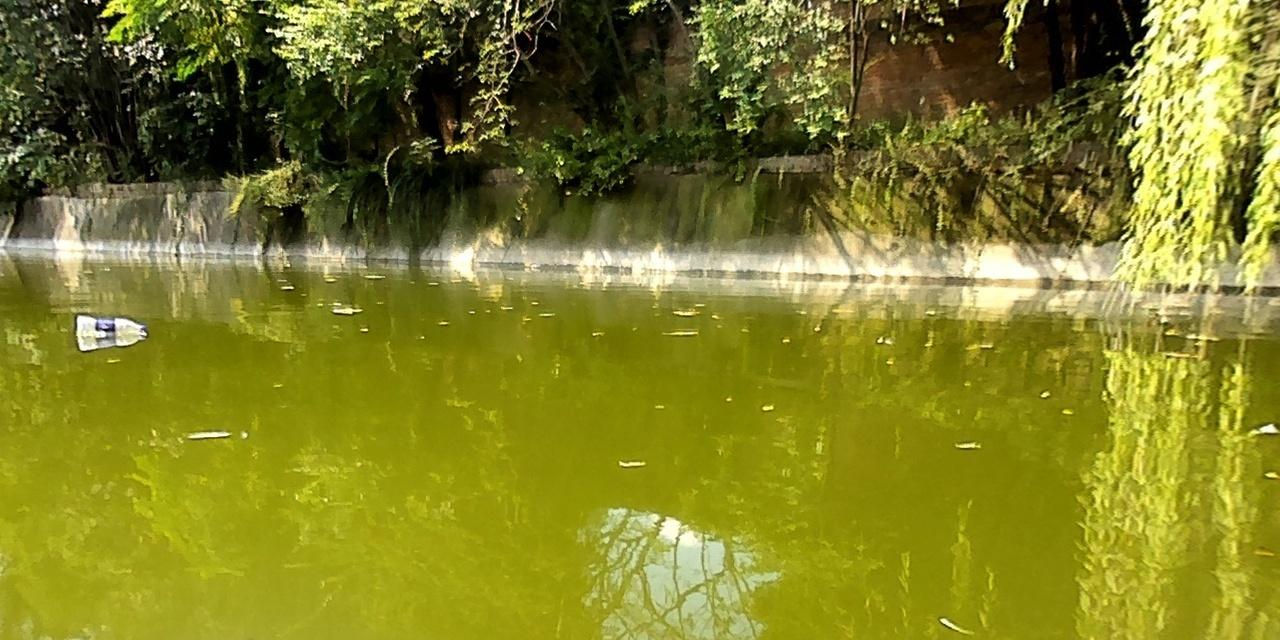bottle: (72, 312, 147, 337)
